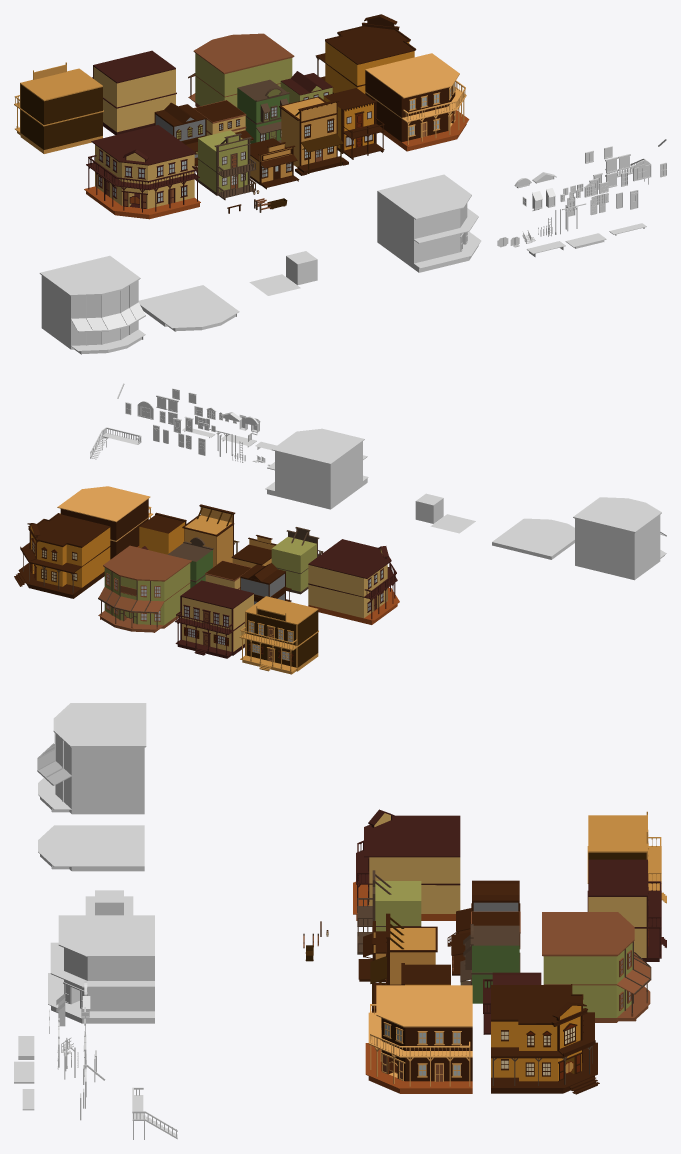
Rendered from Wild_West_Exported.fbx.
3 renders of one model, top to bottom at view 1: azimuth 30°, elevation 25°; view 2: azimuth 150°, elevation 25°; view 3: azimuth 270°, elevation 25°, orthographic. The views are drawn at different scales.
Visible parts, largest first — view 1: Cube.008, Plane.049, Plane.034, Cube.010, Plane.055, Plane.040, Plane.047, Plane.033, Plane.003, Plane.010, Plane.045, Plane.007 (+7 smaller); view 2: Plane.040, Plane.034, Plane.049, Cube.008, Plane.033, Plane.055, Plane.047, Cube.010, Plane.045, Plane.010, Plane.003, Plane.007 (+7 smaller); view 3: Cube.010, Plane.033, Plane.049, Plane.034, Plane.040, Cube.008, Plane.047, Plane.045, Plane.055, Plane.043, Plane.003, Plane.010 (+7 smaller).
Part boxes in pixels (bbox=[...]): Cube.008: bbox=[84, 125, 200, 219]; Plane.049: bbox=[39, 255, 145, 354]; Plane.034: bbox=[377, 174, 481, 272]; Cube.010: bbox=[365, 53, 469, 151]; Plane.055: bbox=[14, 62, 103, 153]; Plane.040: bbox=[188, 33, 294, 107]; Plane.047: bbox=[92, 50, 176, 134]; Plane.033: bbox=[315, 14, 416, 93]; Plane.003: bbox=[279, 96, 348, 175]; Plane.010: bbox=[198, 130, 256, 200]; Plane.045: bbox=[138, 285, 239, 331]; Plane.007: bbox=[323, 88, 384, 159]; Plane.040: bbox=[98, 545, 191, 632]; Plane.034: bbox=[265, 428, 368, 509]; Plane.049: bbox=[573, 497, 666, 580]; Cube.008: bbox=[308, 539, 399, 624]; Plane.033: bbox=[14, 513, 110, 598]; Plane.055: bbox=[239, 596, 318, 674]; Plane.047: bbox=[175, 580, 253, 658]; Cube.010: bbox=[57, 486, 153, 559]; Plane.045: bbox=[492, 518, 574, 559]; Plane.010: bbox=[271, 527, 323, 594]; Plane.003: bbox=[182, 504, 239, 566]; Plane.007: bbox=[139, 512, 186, 554]; Cube.010: bbox=[365, 985, 472, 1093]; Plane.033: bbox=[491, 984, 599, 1094]; Plane.049: bbox=[37, 703, 146, 814]; Plane.034: bbox=[48, 915, 154, 1023]; Plane.040: bbox=[542, 912, 651, 1022]; Cube.008: bbox=[353, 809, 460, 920]; Plane.047: bbox=[587, 859, 666, 962]; Plane.045: bbox=[38, 825, 144, 871]; Plane.055: bbox=[587, 811, 666, 903]; Plane.043: bbox=[460, 924, 520, 1003]; Plane.003: bbox=[370, 913, 437, 1012]; Plane.010: bbox=[357, 870, 421, 954].
Bounding box in the file's own units: 1833 × 200 × 1375.
